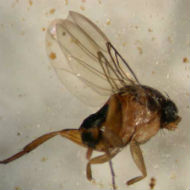phorid fly: (2, 10, 185, 190)
